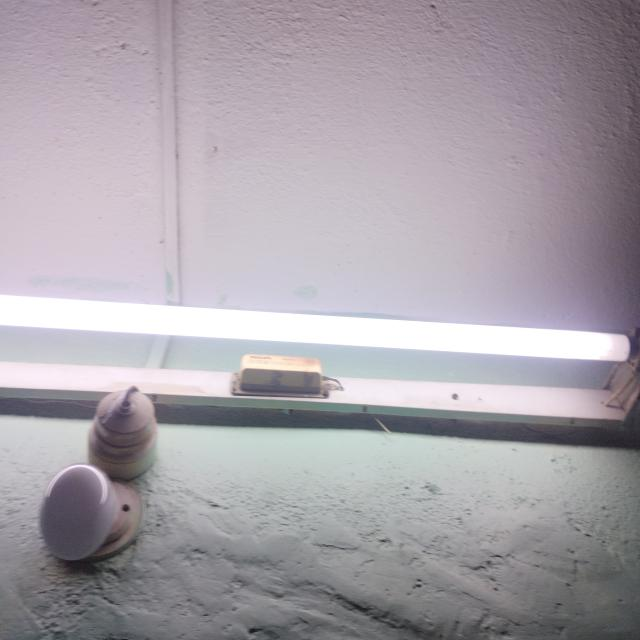tubelight_on: (0, 294, 638, 430)
